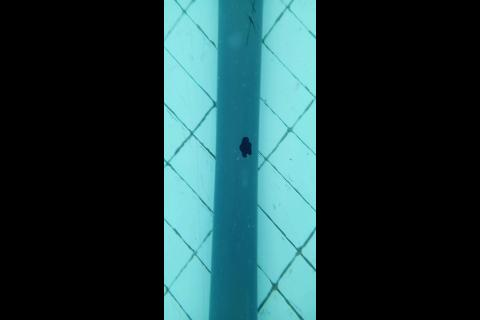kebocoran: (237, 134, 252, 158)
keretakan: (245, 0, 258, 49)
